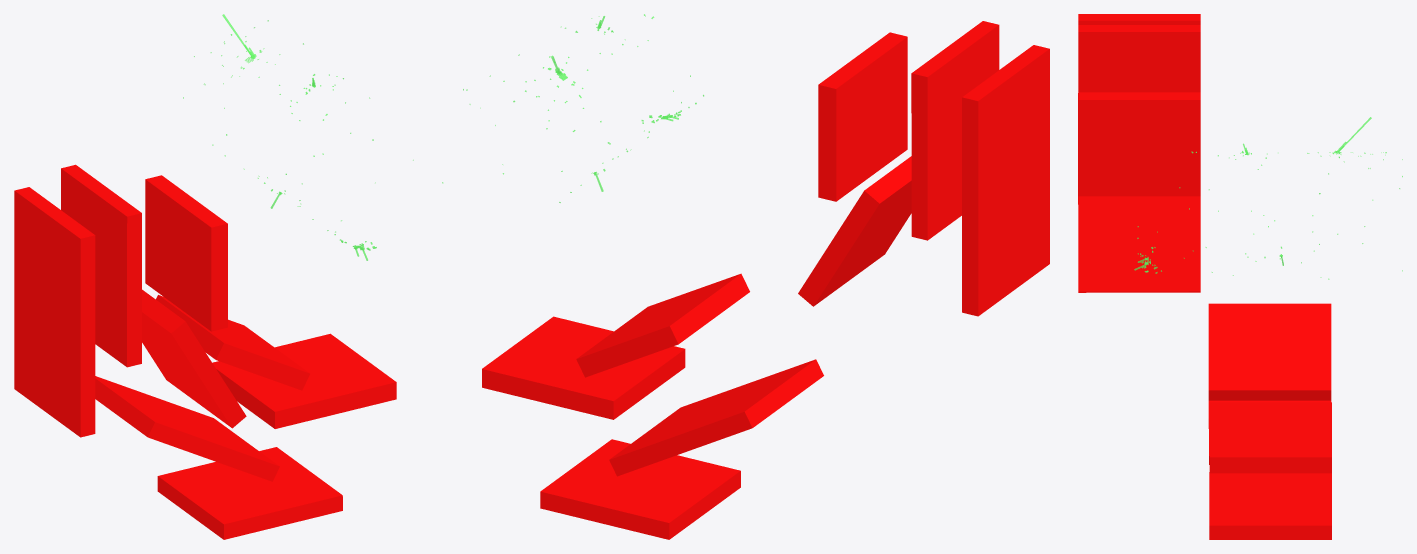
3 views of the same model, side by side, from view 1: azimuth 30°, elevation 25°; view 2: azimuth 150°, elevation 25°; view 3: azimuth 270°, elevation 25° (orthographic). The views are drawn at different scales.
Visible parts, largest first — view 1: MuonChambers_V1, EBRecHits_V2; view 2: MuonChambers_V1, EBRecHits_V2; view 3: MuonChambers_V1, EBRecHits_V2.
Boxes of the visible parts, x1,y1,x2,y2 form: MuonChambers_V1: (14,164,396,539); EBRecHits_V2: (183,14,413,260); MuonChambers_V1: (482,21,1049,539); EBRecHits_V2: (442,14,704,202); MuonChambers_V1: (1078,14,1331,539); EBRecHits_V2: (1134,117,1402,279).
Size of what is drawn, in the model's own units: 8.68 by 9.25 by 6.66.
